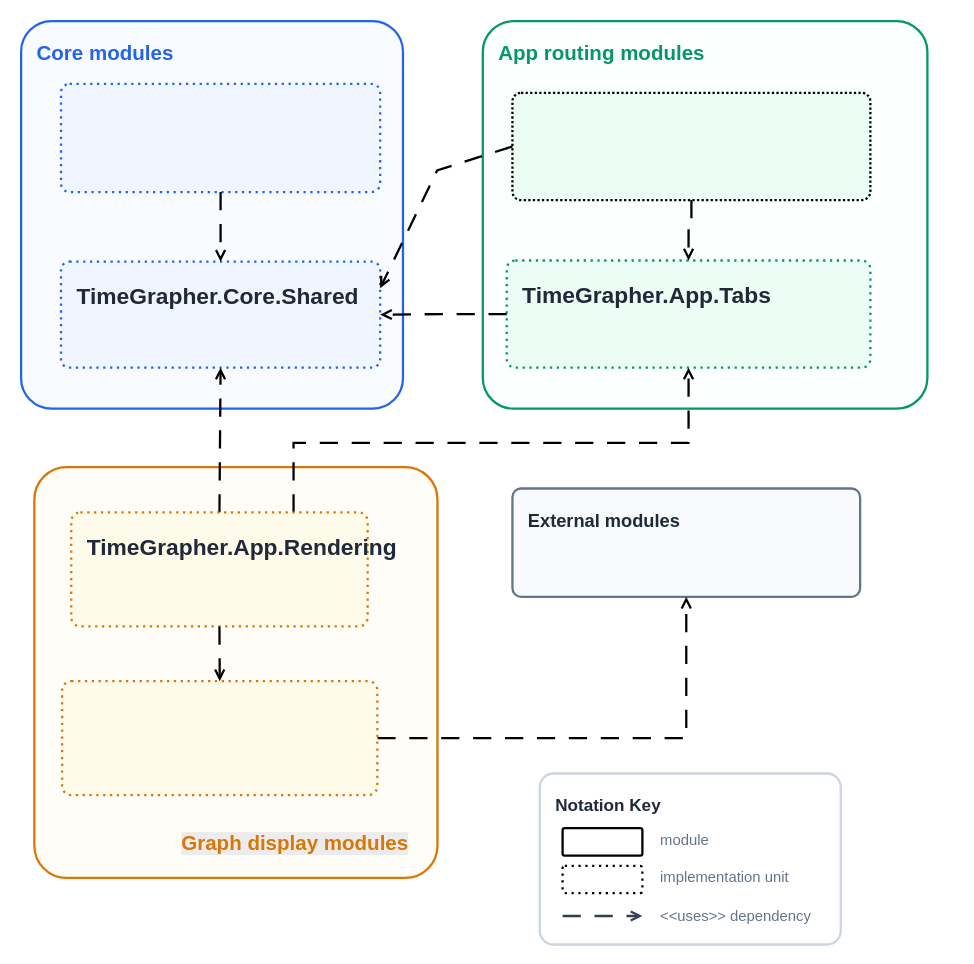
Image size: 974x964. Some labels were removed from this diagram. Here are the shapes that lost their labels. From the top down, the centre of each, then its label:
At [220,137]: "TimeGrapher.Core.Analysis".
At [691,146]: "TimeGrapher.App.UI Dispatch".
At [219,737]: "Graph-specific renderers".
